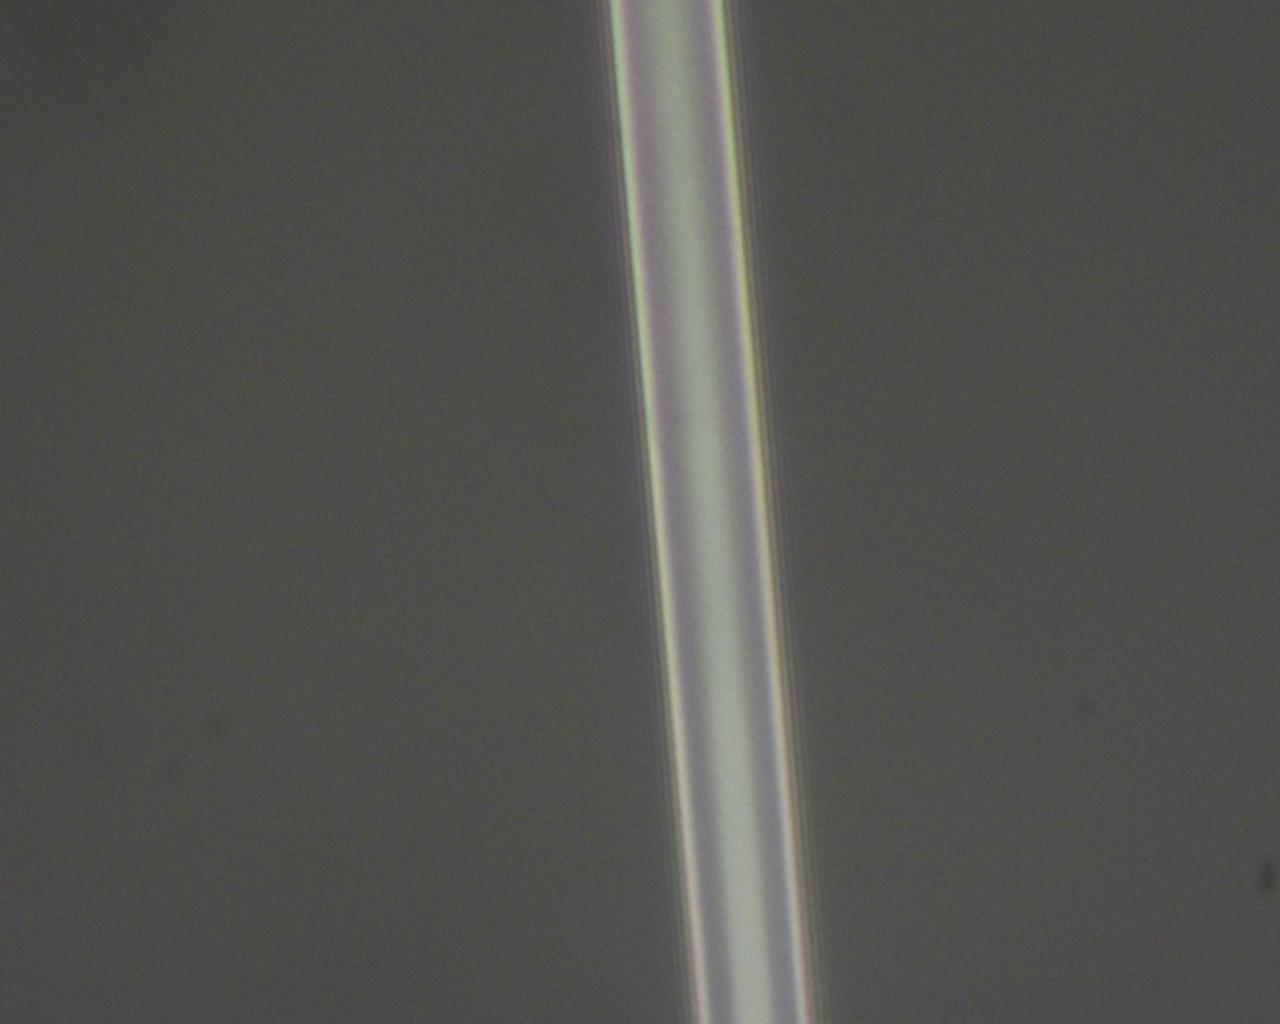fiber: (996, 0, 1221, 512), (119, 512, 339, 1024), (1128, 512, 1241, 1024)
